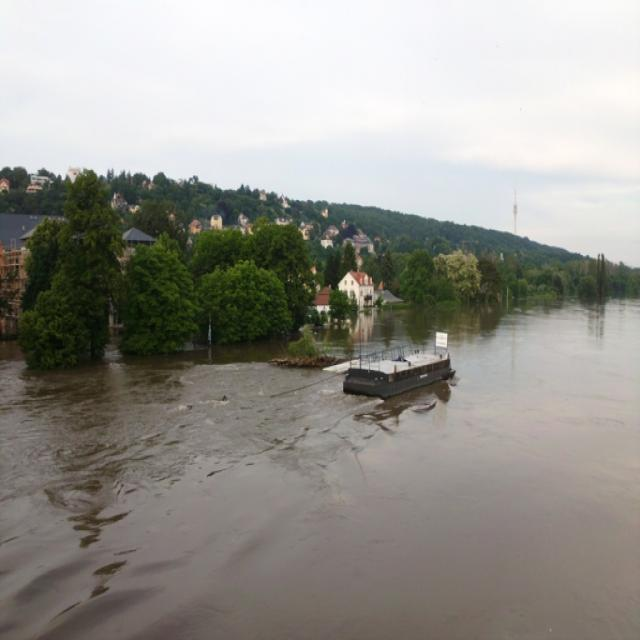flood: (0, 300, 640, 640)
house: (348, 346, 454, 399), (0, 213, 25, 338), (339, 268, 375, 306), (122, 226, 155, 250), (312, 284, 332, 316)
